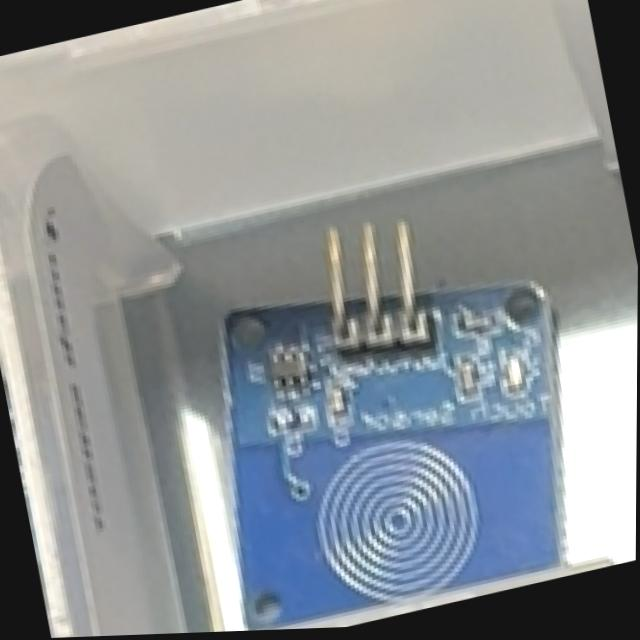Touch Sensor: (171, 170, 610, 633)
